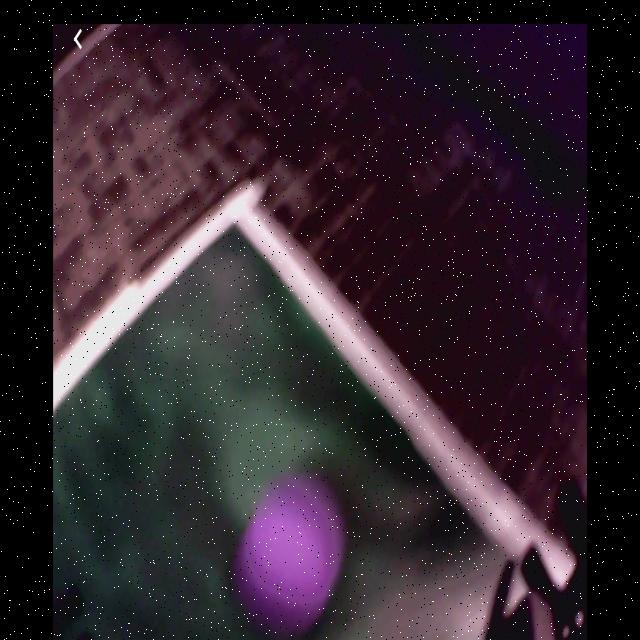ball: (246, 487, 345, 606)
